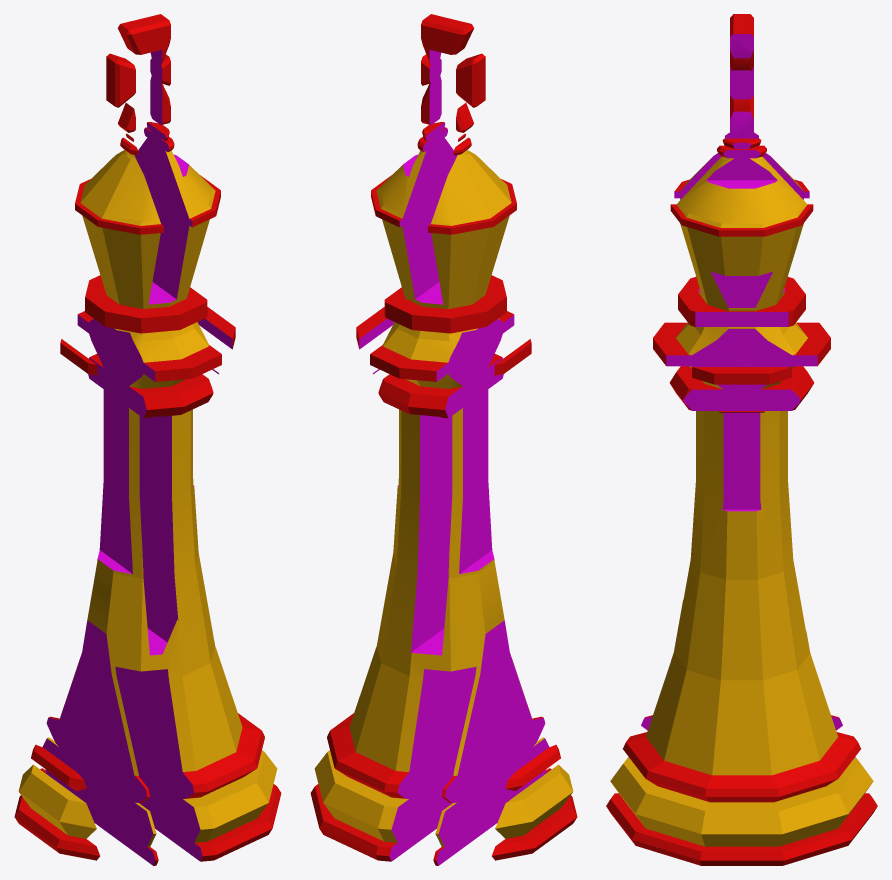
The model's file is King_Glitch.fbx.
The picture shows the model from 3 angles, left to right: view 1: azimuth 30°, elevation 25°; view 2: azimuth 150°, elevation 25°; view 3: azimuth 270°, elevation 25°; orthographic projection.
Visible parts, largest first — view 1: KingLow_Glitch; view 2: KingLow_Glitch; view 3: KingLow_Glitch.
Boxes of the visible parts, <box> form: KingLow_Glitch: <box>14,14,281,865</box>; KingLow_Glitch: <box>310,14,577,865</box>; KingLow_Glitch: <box>606,14,877,865</box>.
Bounding box in the file's own units: 0.8345 × 2.8 × 0.8774.
